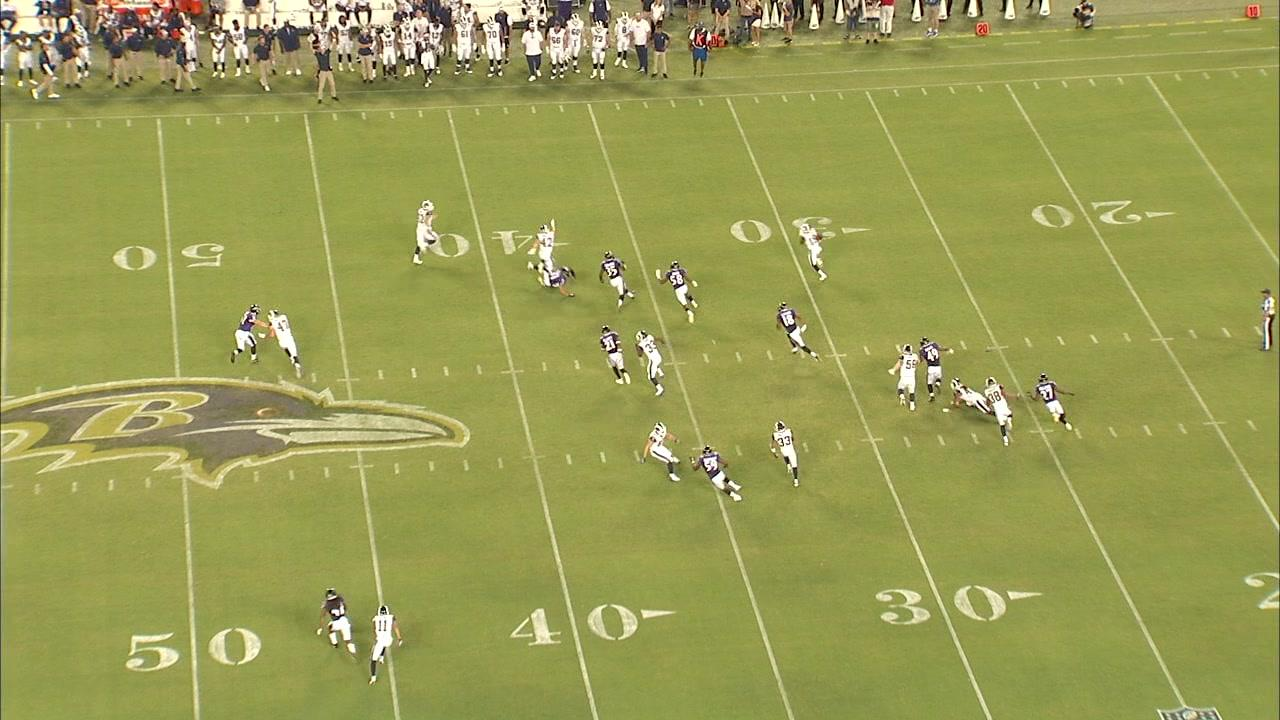number: (124, 627, 264, 675), (505, 601, 639, 649), (871, 583, 1008, 628), (1027, 197, 1144, 233), (108, 242, 228, 272), (429, 229, 535, 261)
